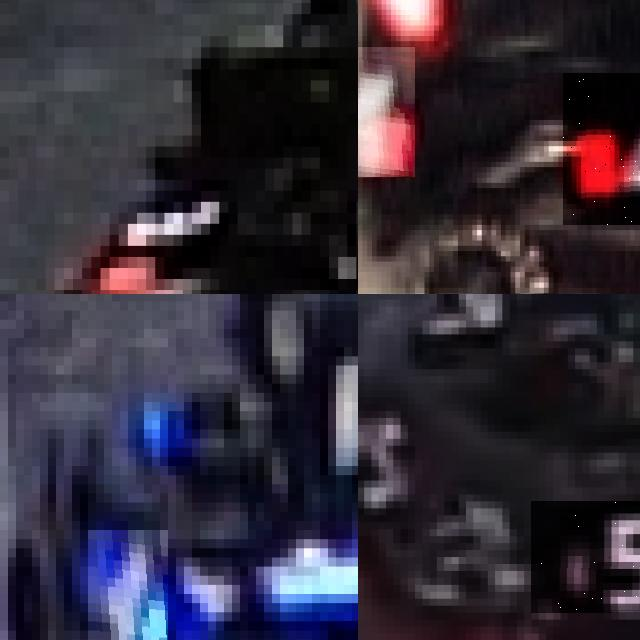B4: (88, 530, 168, 640)
R4: (563, 73, 640, 225), (358, 46, 415, 177)
R5: (531, 501, 640, 612)
